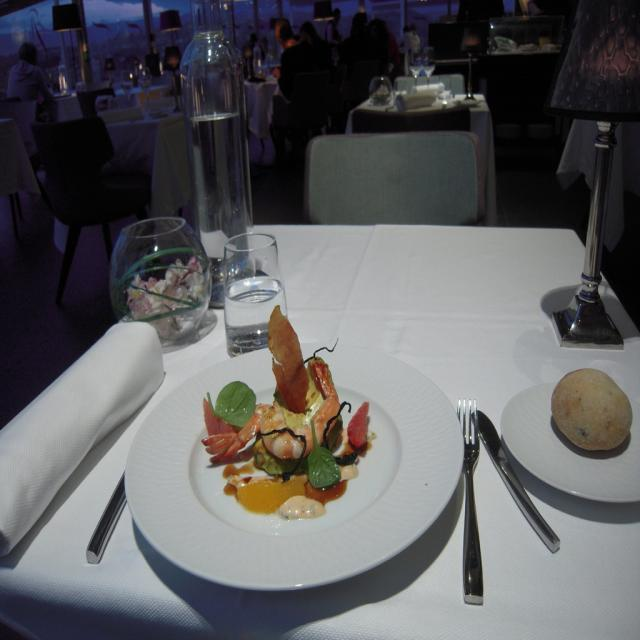ceramic plate: (123, 320, 466, 610)
